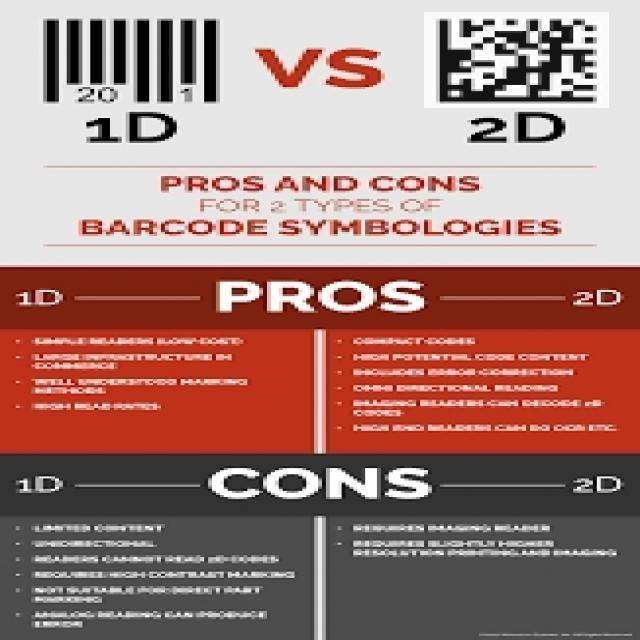Data-Matrix: (424, 12, 609, 108)
